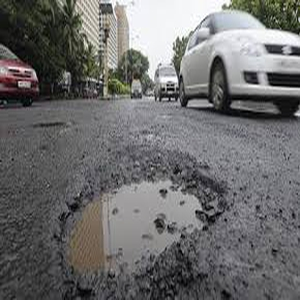pothole: (59, 155, 226, 288)
